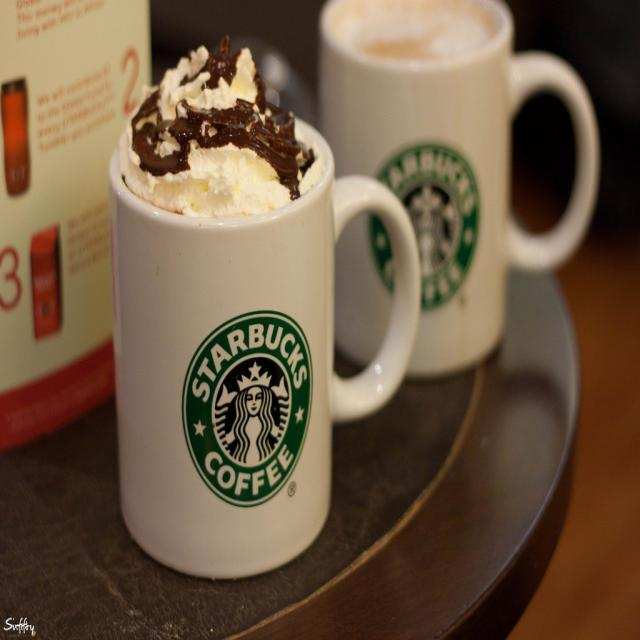starbucks: (183, 310, 313, 510), (366, 141, 484, 316)
